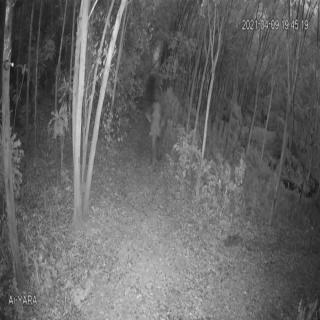Elephant: (142, 94, 169, 163)
